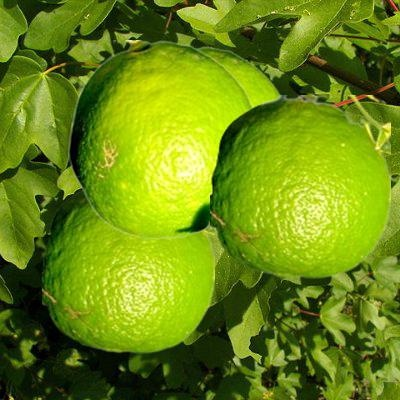dalandan: (68, 40, 253, 238), (210, 95, 389, 277), (42, 188, 213, 352), (195, 46, 281, 105)
